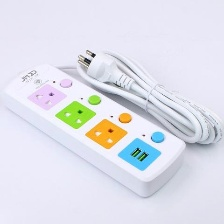three_eye_plug: (0, 59, 188, 199)
